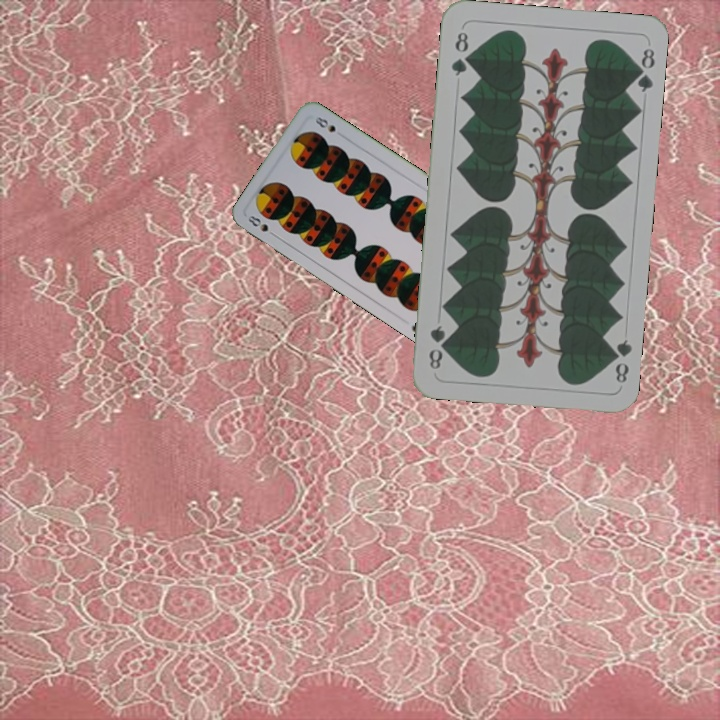G8: (606, 335, 634, 386), (447, 27, 472, 78)
S8: (244, 211, 271, 234)
